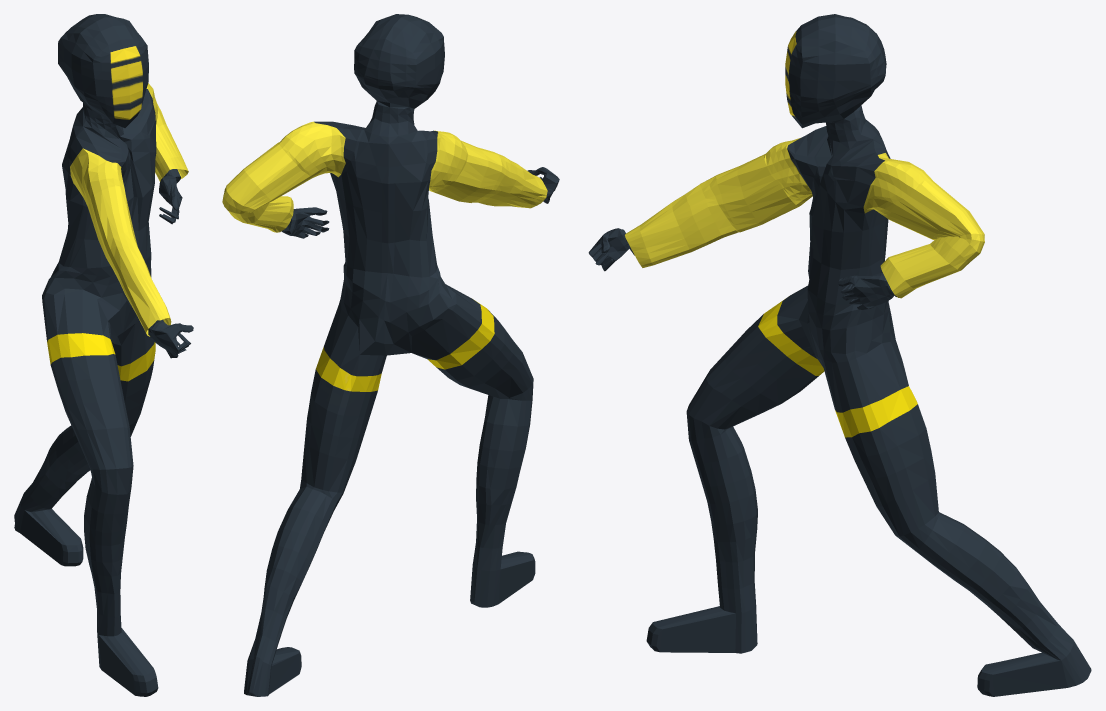
Rendered from Sentry_WL_000028.obj.
3 views of the same model, side by side, from view 1: azimuth 30°, elevation 25°; view 2: azimuth 150°, elevation 25°; view 3: azimuth 270°, elevation 25° (orthographic). The views are drawn at different scales.
Visible parts, largest first — view 1: Cube; view 2: Cube; view 3: Cube.
Part boxes in pixels (x1=…): Cube: x1=14, y1=14, x2=193, y2=696; Cube: x1=222, y1=14, x2=559, y2=696; Cube: x1=588, y1=14, x2=1091, y2=696.
Size of the model in its own units: 1.18 by 3.61 by 2.52.
